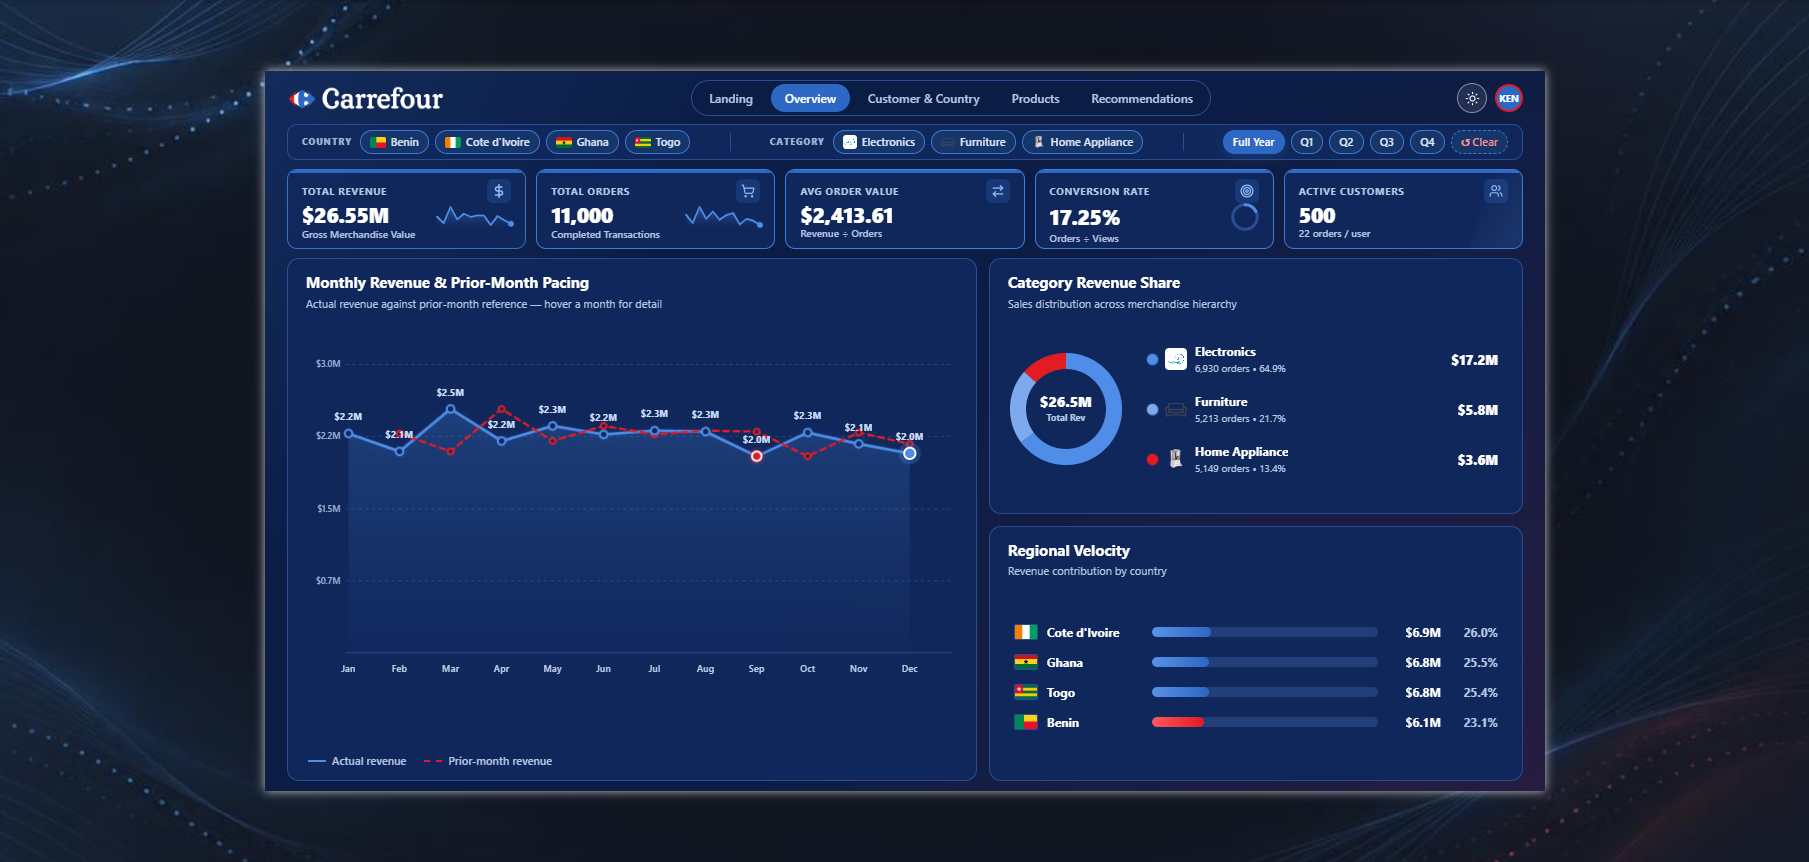

This screenshot's page, from the dashboard's own definition file:
{"tool":"powerbi","page":{"name":"Overview Page","canvas":[1280,720],"ordinal":1},"visuals":[{"type":"htmlContent443BE3AD55E043BF878BED274D3A6855","fields":{"content":["HTML_Visuals.Overview_Page"]},"box":[0,0,1280,720],"z":0},{"type":"advancedSlicerVisual","title":"Country","fields":{"Values":["dim_country.country"]},"box":[96,56,344,32],"z":1000},{"type":"advancedSlicerVisual","title":"Category","fields":{"Values":["dim_category.category"]},"box":[568,56,312,32],"z":2000},{"type":"advancedSlicerVisual","title":"Quarter","fields":{"Values":["dim_date.quarter"]},"box":[1024,56,160,32],"z":3000},{"type":"actionButton","title":"Clear Filters","box":[1184,56,64,32],"z":4000},{"type":"actionButton","title":"Recommendations","box":[820,15,115,24],"z":7000},{"type":"actionButton","title":"Products","box":[740,15,60,24],"z":7250},{"type":"actionButton","title":"Customer & Country","box":[600,15,120,24],"z":7500},{"type":"actionButton","title":"Landing","box":[440,15,55,24],"z":8000}]}

Visuals, with their boxes on the page's 1280x720 design canvas (x1, y1, x2, y2). These are canvas units, not pixel positions in the 1809x862 screenshot, which may show the page scaled, cropped or inside an application window:
htmlContent443BE3AD55E043BF878BED274D3A6855 - HTML_Visuals.Overview_Page: x1=0 y1=0 x2=1280 y2=720
"Country" advancedSlicerVisual: x1=96 y1=56 x2=440 y2=88
"Category" advancedSlicerVisual: x1=568 y1=56 x2=880 y2=88
"Quarter" advancedSlicerVisual: x1=1024 y1=56 x2=1184 y2=88
"Clear Filters" actionButton: x1=1184 y1=56 x2=1248 y2=88
"Recommendations" actionButton: x1=820 y1=15 x2=935 y2=39
"Products" actionButton: x1=740 y1=15 x2=800 y2=39
"Customer & Country" actionButton: x1=600 y1=15 x2=720 y2=39
"Landing" actionButton: x1=440 y1=15 x2=495 y2=39
